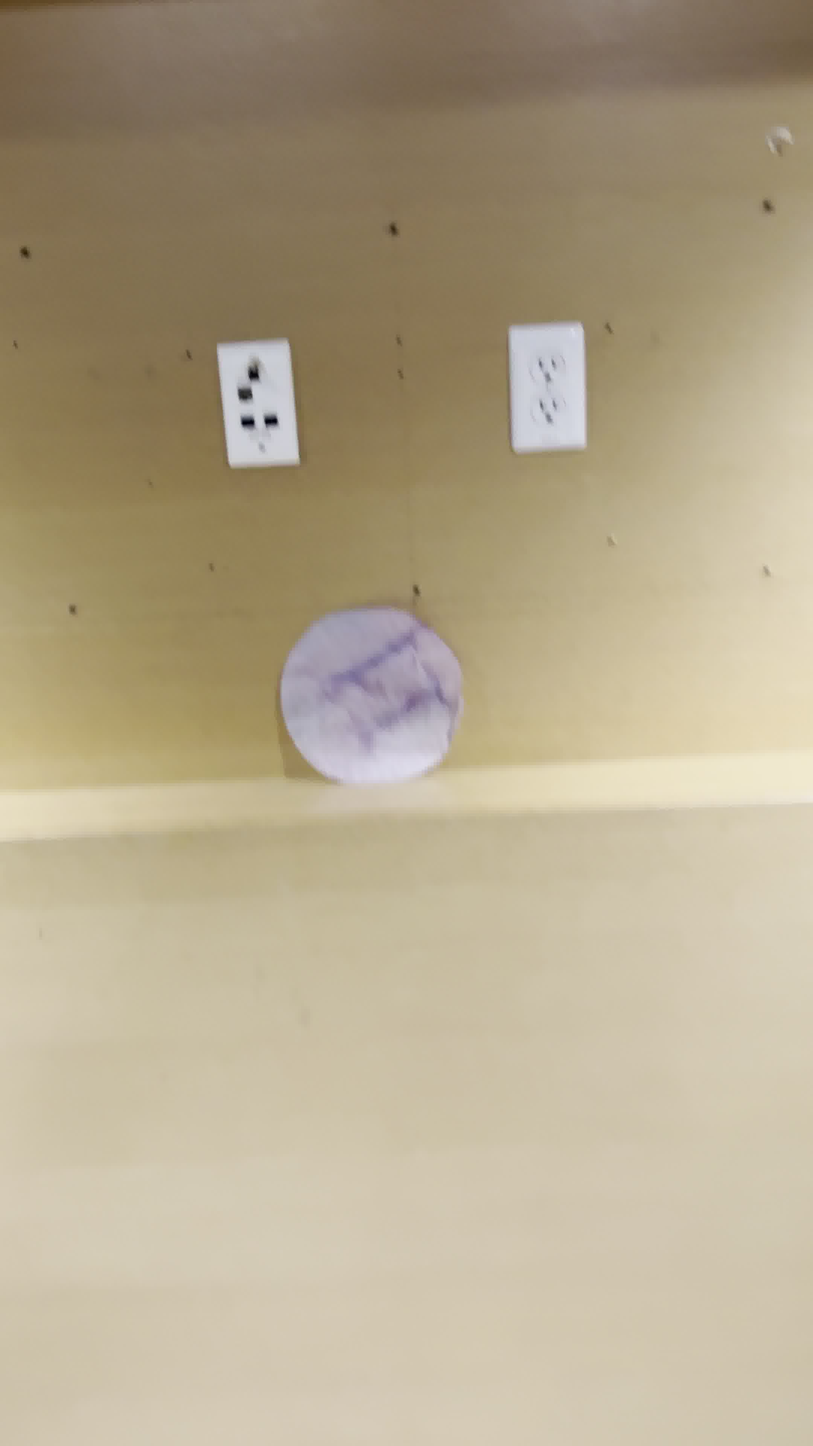Target: (277, 610, 456, 791)
